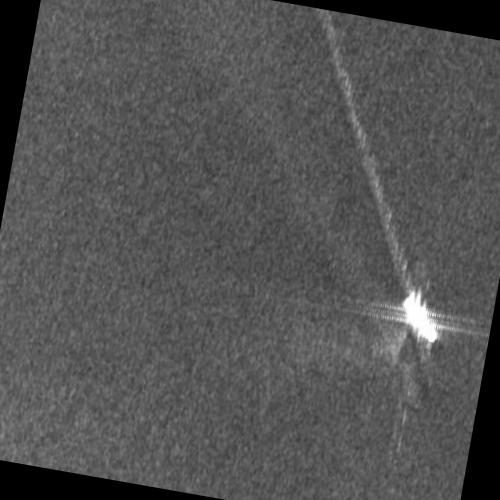ship: (403, 291, 438, 343)
